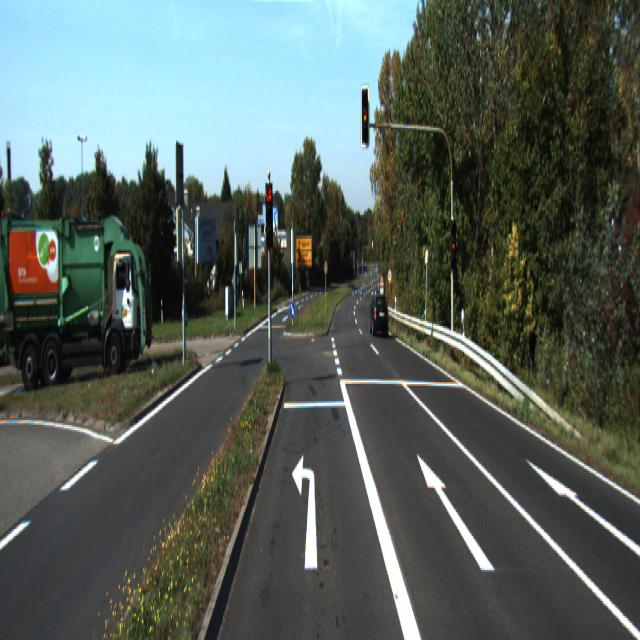Car: (0, 222, 153, 392), (370, 292, 389, 336)
